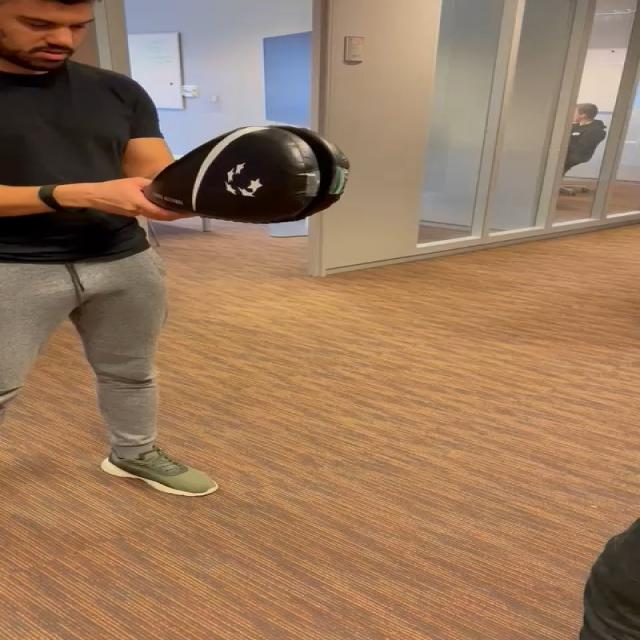paddle: (172, 125, 354, 221)
